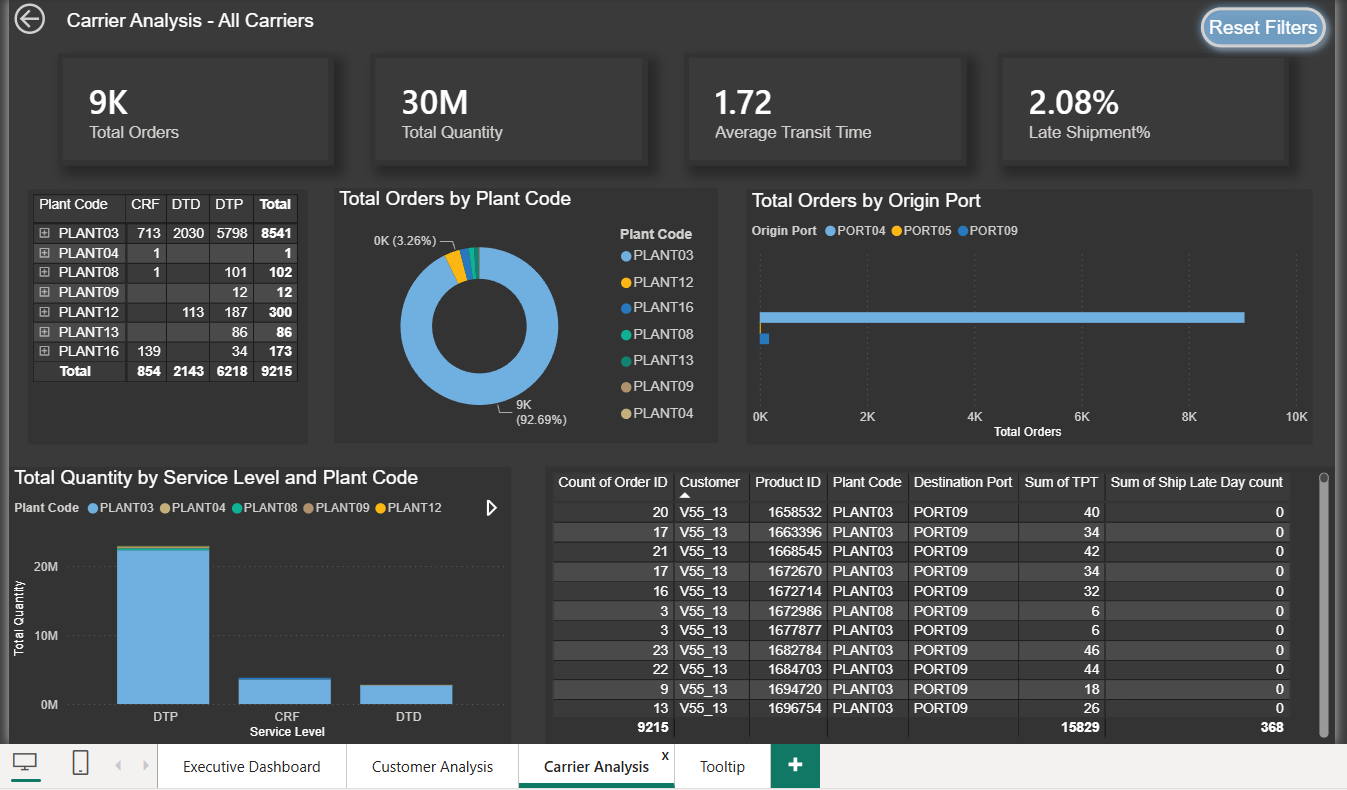

Layout of this report page (visuals, bound fields, positions):
{"tool":"powerbi","page":{"name":"Carrier Analysis","canvas":[1280,720],"ordinal":2},"visuals":[{"type":"actionButton","box":[0,0,100,40],"z":0},{"type":"cardVisual","fields":{"Data":["ameasures.Total Orders"]},"box":[47.5,52.8,266.6,108.6],"z":1000},{"type":"cardVisual","fields":{"Data":["ameasures.Total Quantity"]},"box":[349.1,52.8,267.8,108.6],"z":2000},{"type":"cardVisual","fields":{"Data":["ameasures.Average Transit Time"]},"box":[652,52.8,272.7,108.6],"z":3000},{"type":"cardVisual","fields":{"Data":["ameasures.Late Shipment%"]},"box":[954.8,52.8,281.1,108.6],"z":4000},{"type":"pivotTable","fields":{"Columns":["OrderList.Service Level"],"Values":["ameasures.Total Orders"],"Rows":["DimPlant.Plant Code","OrderList.Plant Code","PlantPorts.Plant Code"]},"box":[18.1,184.6,270.2,246.1],"z":5000},{"type":"columnChart","fields":{"Y":["ameasures.Total Quantity"],"Category":["OrderList.Service Level"],"Series":["OrderList.Plant Code"]},"box":[0,452.4,485,267.8],"z":6000},{"type":"clusteredBarChart","fields":{"Y":["ameasures.Total Orders"],"Series":["OrderList.Origin Port"]},"box":[711.8,184.6,546.5,246.1],"z":7000},{"type":"donutChart","fields":{"Category":["OrderList.Plant Code"],"Y":["ameasures.Total Orders"]},"box":[313.8,183.8,370,246.2],"z":8000},{"type":"tableEx","fields":{"Values":["CountNonNull(OrderList.Order ID)","DimCustomer.Customer","DimProduct.Product ID","DimPlant.Plant Code","OrderList.Destination Port","Sum(OrderList.TPT)","Sum(OrderList.Ship Late Day count)"]},"box":[517.6,452.4,762.5,267.8],"z":9000},{"type":"textbox","box":[50.7,10.9,257,29],"z":10000},{"type":"actionButton","box":[1141.3,0,138.7,56.7],"z":11000}]}

Visuals, with their boxes on the page's 1280x720 design canvas (x1, y1, x2, y2). These are canvas units, not pixel positions in the 1347x790 screenshot, which may show the page scaled, cropped or inside an application window:
actionButton: [left=0, top=0, right=100, bottom=40]
cardVisual - ameasures.Total Orders: [left=48, top=53, right=314, bottom=161]
cardVisual - ameasures.Total Quantity: [left=349, top=53, right=617, bottom=161]
cardVisual - ameasures.Average Transit Time: [left=652, top=53, right=925, bottom=161]
cardVisual - ameasures.Late Shipment%: [left=955, top=53, right=1236, bottom=161]
pivotTable - OrderList.Service Level x ameasures.Total Orders: [left=18, top=185, right=288, bottom=431]
columnChart - ameasures.Total Quantity x OrderList.Service Level: [left=0, top=452, right=485, bottom=720]
clusteredBarChart - ameasures.Total Orders x OrderList.Origin Port: [left=712, top=185, right=1258, bottom=431]
donutChart - OrderList.Plant Code x ameasures.Total Orders: [left=314, top=184, right=684, bottom=430]
tableEx - CountNonNull(OrderList.Order ID) x DimCustomer.Customer: [left=518, top=452, right=1280, bottom=720]
textbox: [left=51, top=11, right=308, bottom=40]
actionButton: [left=1141, top=0, right=1280, bottom=57]
